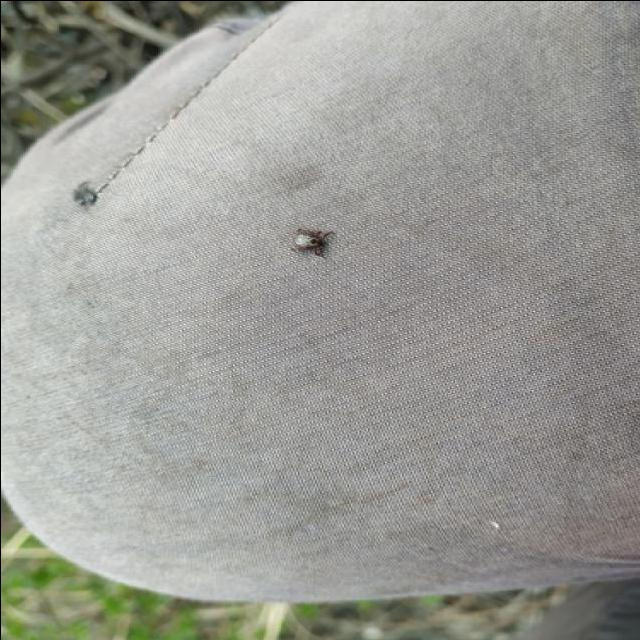Dermacentor Reticulatus-M: (287, 224, 343, 265)
